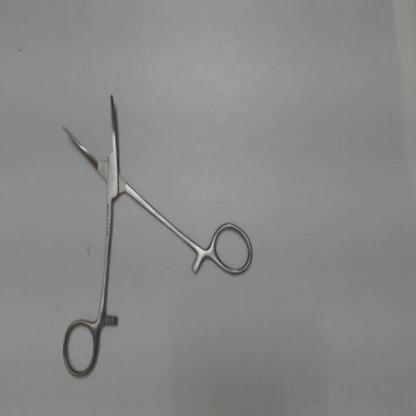Crile Artery Forceps: (53, 84, 256, 384)
